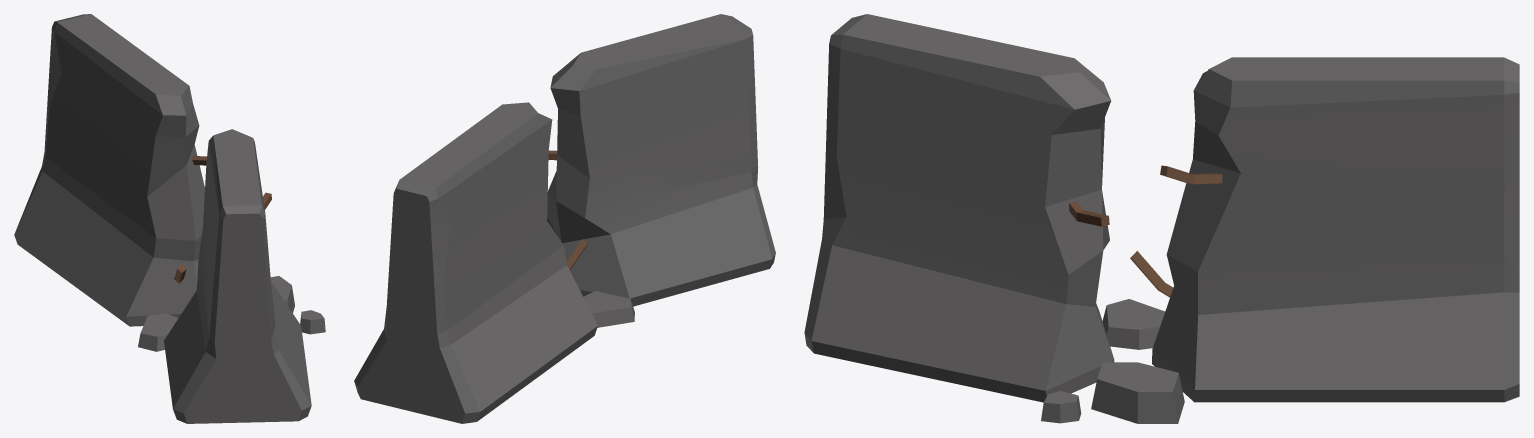
The model's file is SM_Prop_Barrier_Concrete_Bare_Broken_01.obj.
3 renders of one model, left to right at view 1: azimuth 30°, elevation 25°; view 2: azimuth 150°, elevation 25°; view 3: azimuth 270°, elevation 25°, orthographic. The views are drawn at different scales.
Parts seen in each view (by area): view 1: SM_Prop_Barrier_Concrete_Bare_Broken_01_0; view 2: SM_Prop_Barrier_Concrete_Bare_Broken_01_0; view 3: SM_Prop_Barrier_Concrete_Bare_Broken_01_0.
Part boxes in pixels (x1,y1,x2,y2): SM_Prop_Barrier_Concrete_Bare_Broken_01_0: (14, 14, 325, 423); SM_Prop_Barrier_Concrete_Bare_Broken_01_0: (354, 14, 775, 423); SM_Prop_Barrier_Concrete_Bare_Broken_01_0: (804, 14, 1519, 423).
Bounding box in the file's own units: 0.9266 × 0.9029 × 1.98.
1 material, 1 textured.
